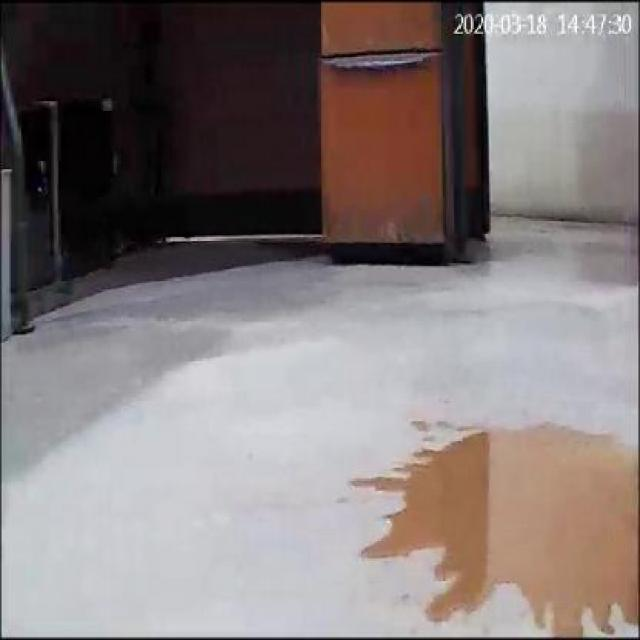spill: (347, 417, 635, 637)
